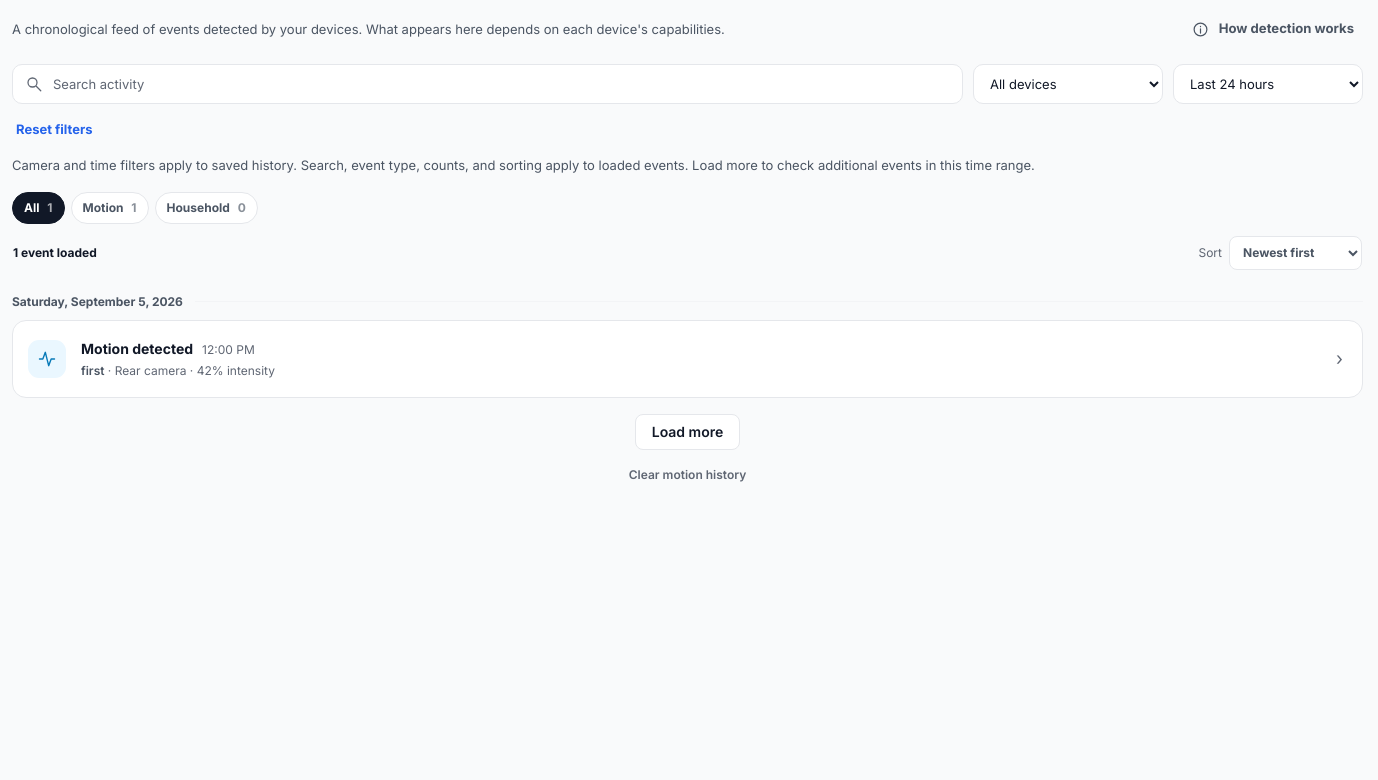
Scenario: Activity timeline › searches additional pages, trims text, and resets all filters
This screenshot has width=1378, height=780.
Expected: the text "first" is shown, x1=81 y1=362 x2=104 y2=378
In the search field named "Search loaded activity": (488, 84) x1=12 y1=64 x2=963 y2=104, type "  matching  "
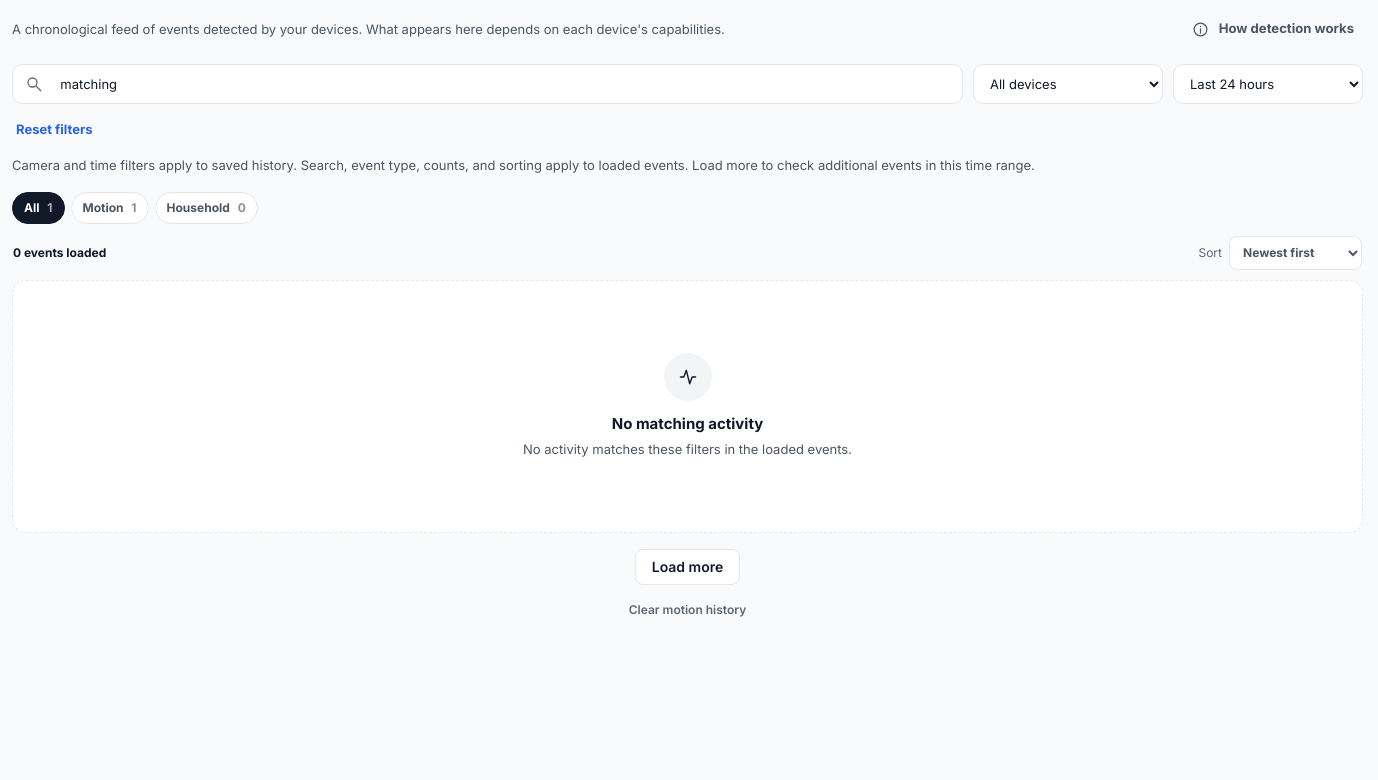
Expected: the text "Load more to check additional events" is shown, x1=688 y1=157 x2=1035 y2=173
Click the button "Load more": (687, 566) x1=635 y1=548 x2=740 y2=584
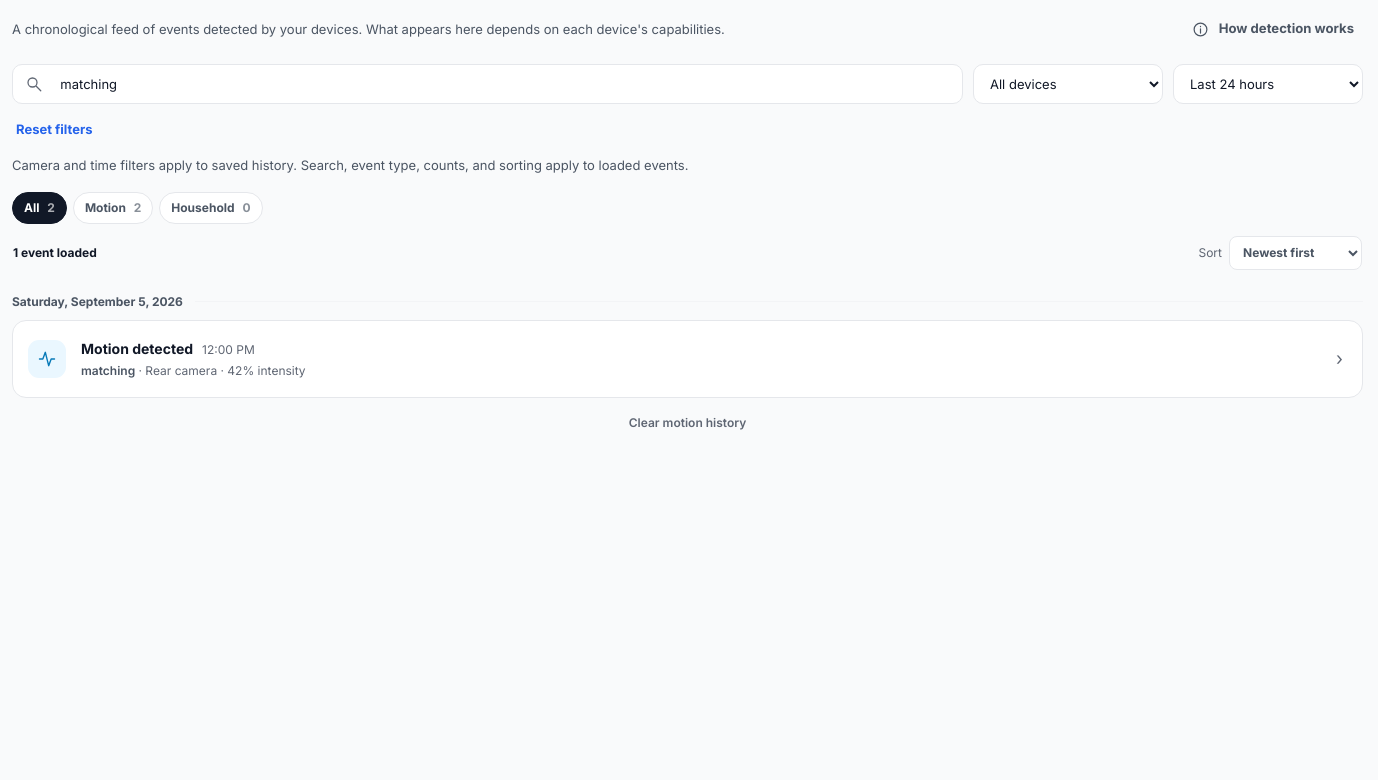
Now the text "matching" is shown, box x1=81 y1=362 x2=135 y2=378
Now the message reads "1 event loaded", box x1=13 y1=244 x2=97 y2=262
Select "Last 30 days" in the dropdown named "Filter activity by time": (1268, 84) x1=1173 y1=64 x2=1363 y2=104
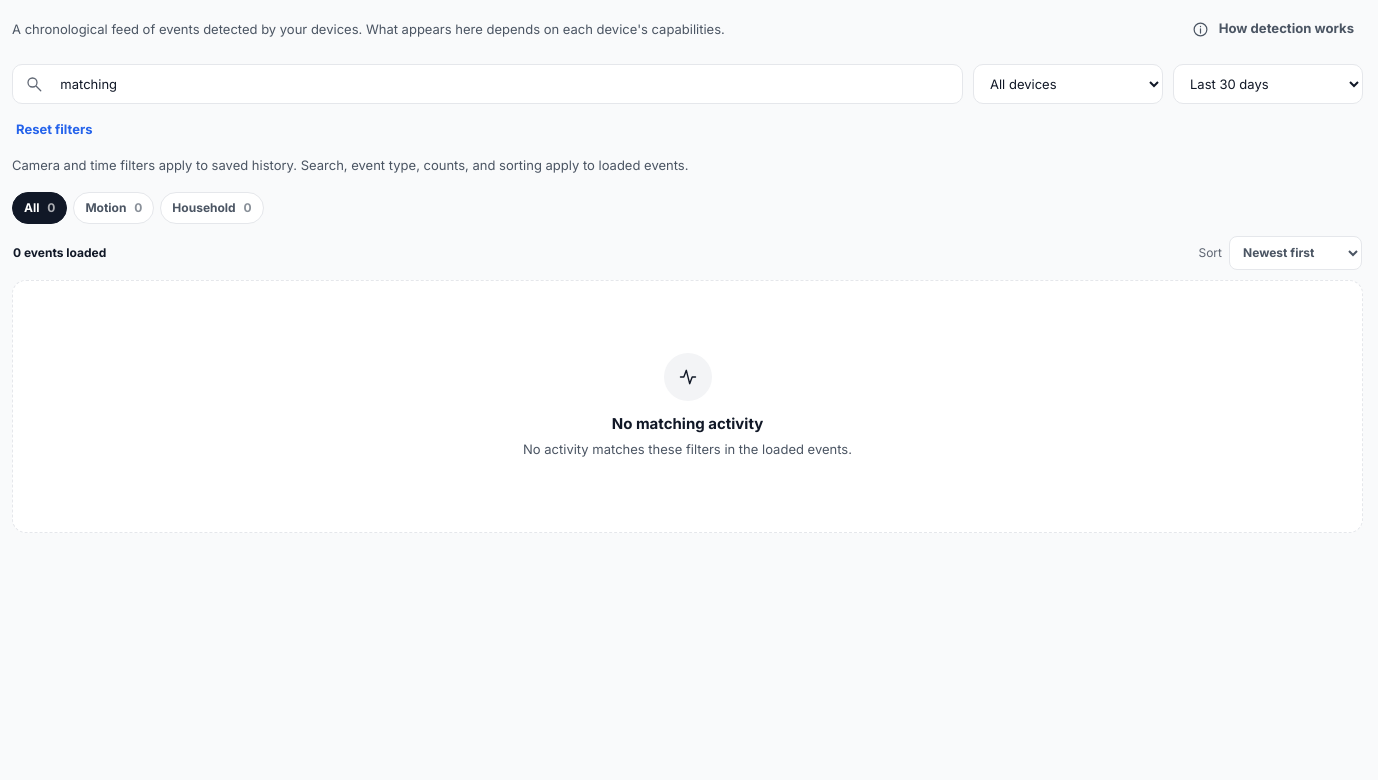
Select "Oldest first" in the dropdown named "Sort activity": (1296, 252) x1=1229 y1=236 x2=1362 y2=270
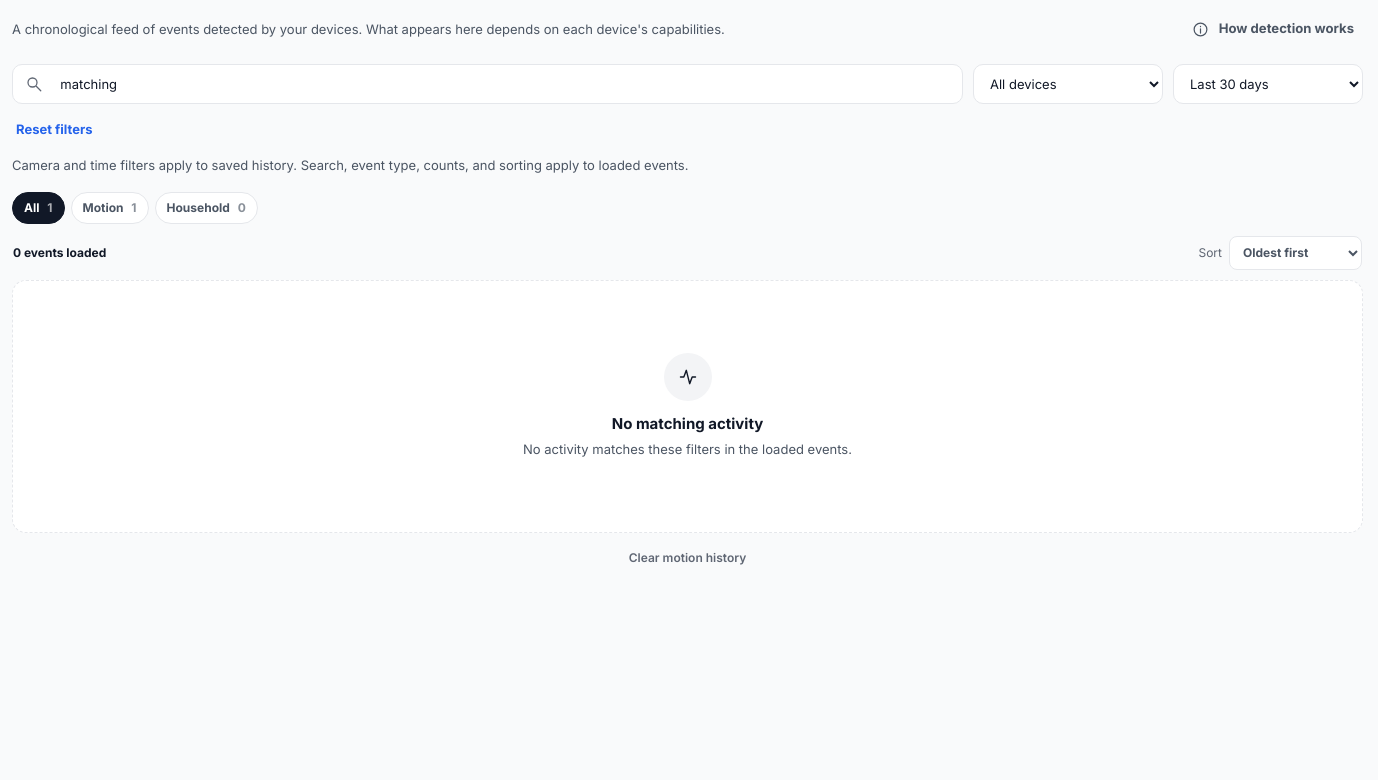
Click the button "Household 0": (206, 208) x1=154 y1=192 x2=258 y2=224
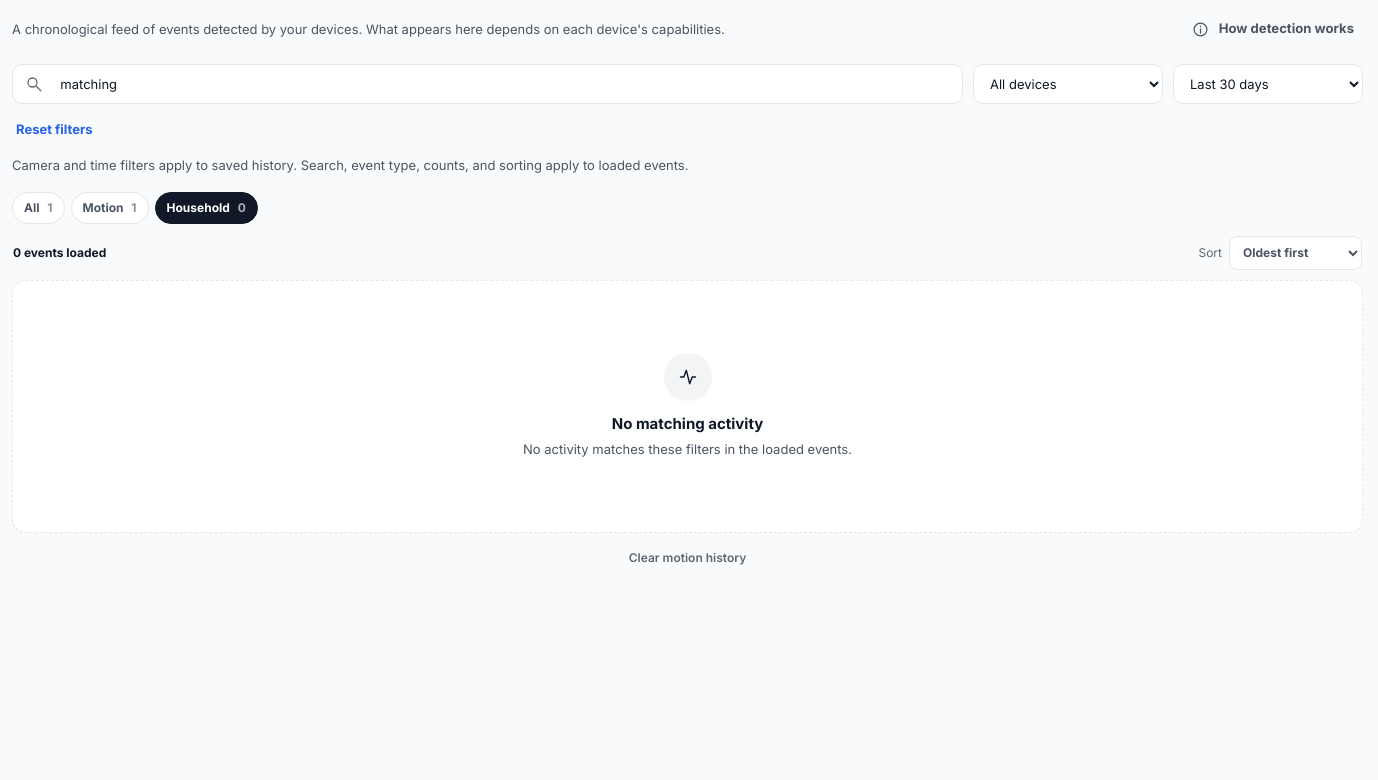
Click the button "Reset filters": (54, 130) x1=12 y1=114 x2=96 y2=146
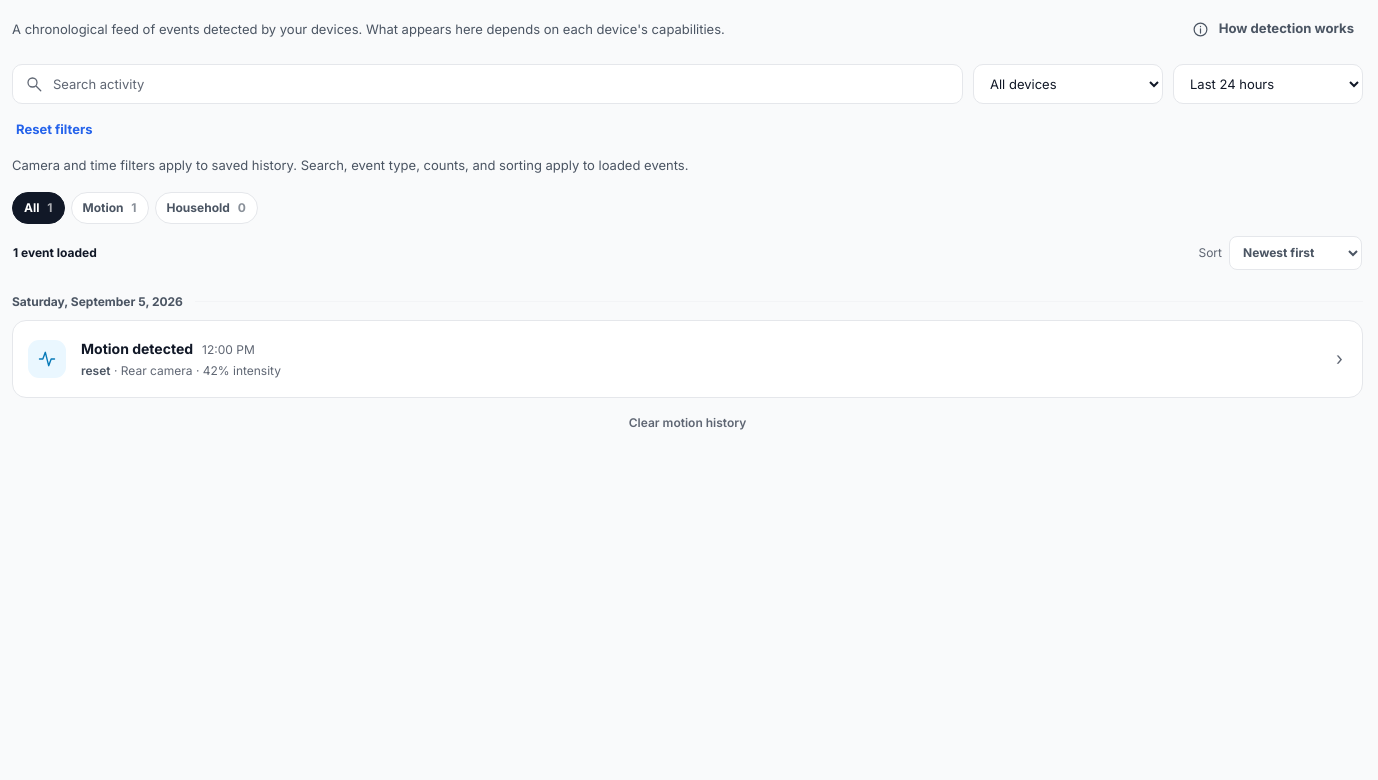
Now the text "reset" is shown, box x1=81 y1=362 x2=110 y2=378
Now the search field is empty, box x1=12 y1=64 x2=963 y2=104
